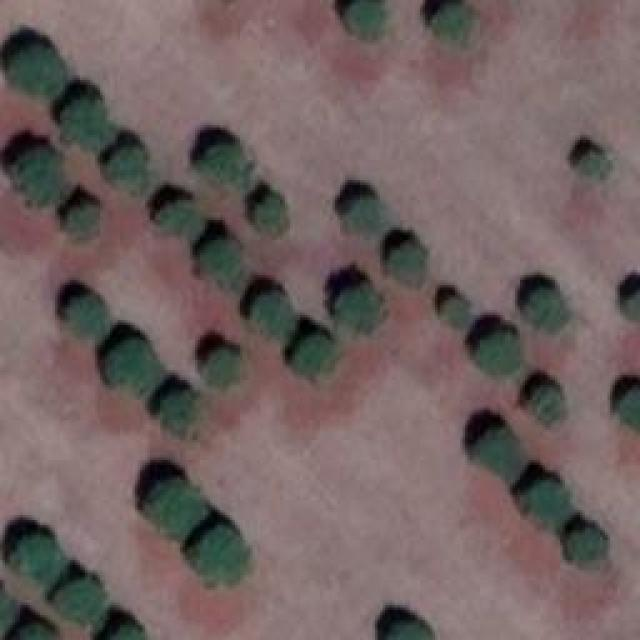Tree: (190, 520, 248, 585), (102, 335, 160, 395), (13, 148, 68, 211), (13, 38, 66, 101), (58, 290, 108, 355), (55, 95, 115, 148), (478, 425, 531, 480), (15, 527, 63, 585), (148, 478, 198, 533), (520, 478, 575, 528), (338, 278, 388, 331), (50, 578, 103, 628), (472, 328, 520, 381), (200, 235, 248, 285), (247, 293, 295, 343), (293, 333, 338, 386), (523, 290, 568, 340), (195, 143, 243, 188), (385, 237, 430, 285), (530, 380, 573, 430), (158, 385, 198, 435), (103, 148, 146, 193), (200, 345, 240, 388), (568, 528, 608, 571), (255, 187, 290, 235), (437, 3, 475, 46), (343, 198, 383, 238), (65, 195, 100, 240), (347, 0, 384, 42), (158, 195, 193, 235), (387, 617, 434, 640), (617, 380, 640, 425), (440, 295, 470, 328), (105, 622, 153, 640), (575, 153, 608, 178), (15, 620, 53, 640), (0, 588, 15, 631)
